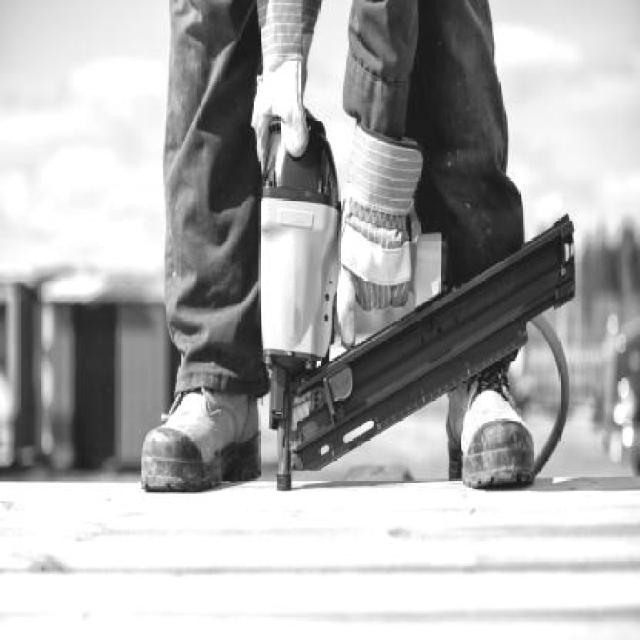shoes: (142, 372, 264, 496), (443, 375, 539, 490)
